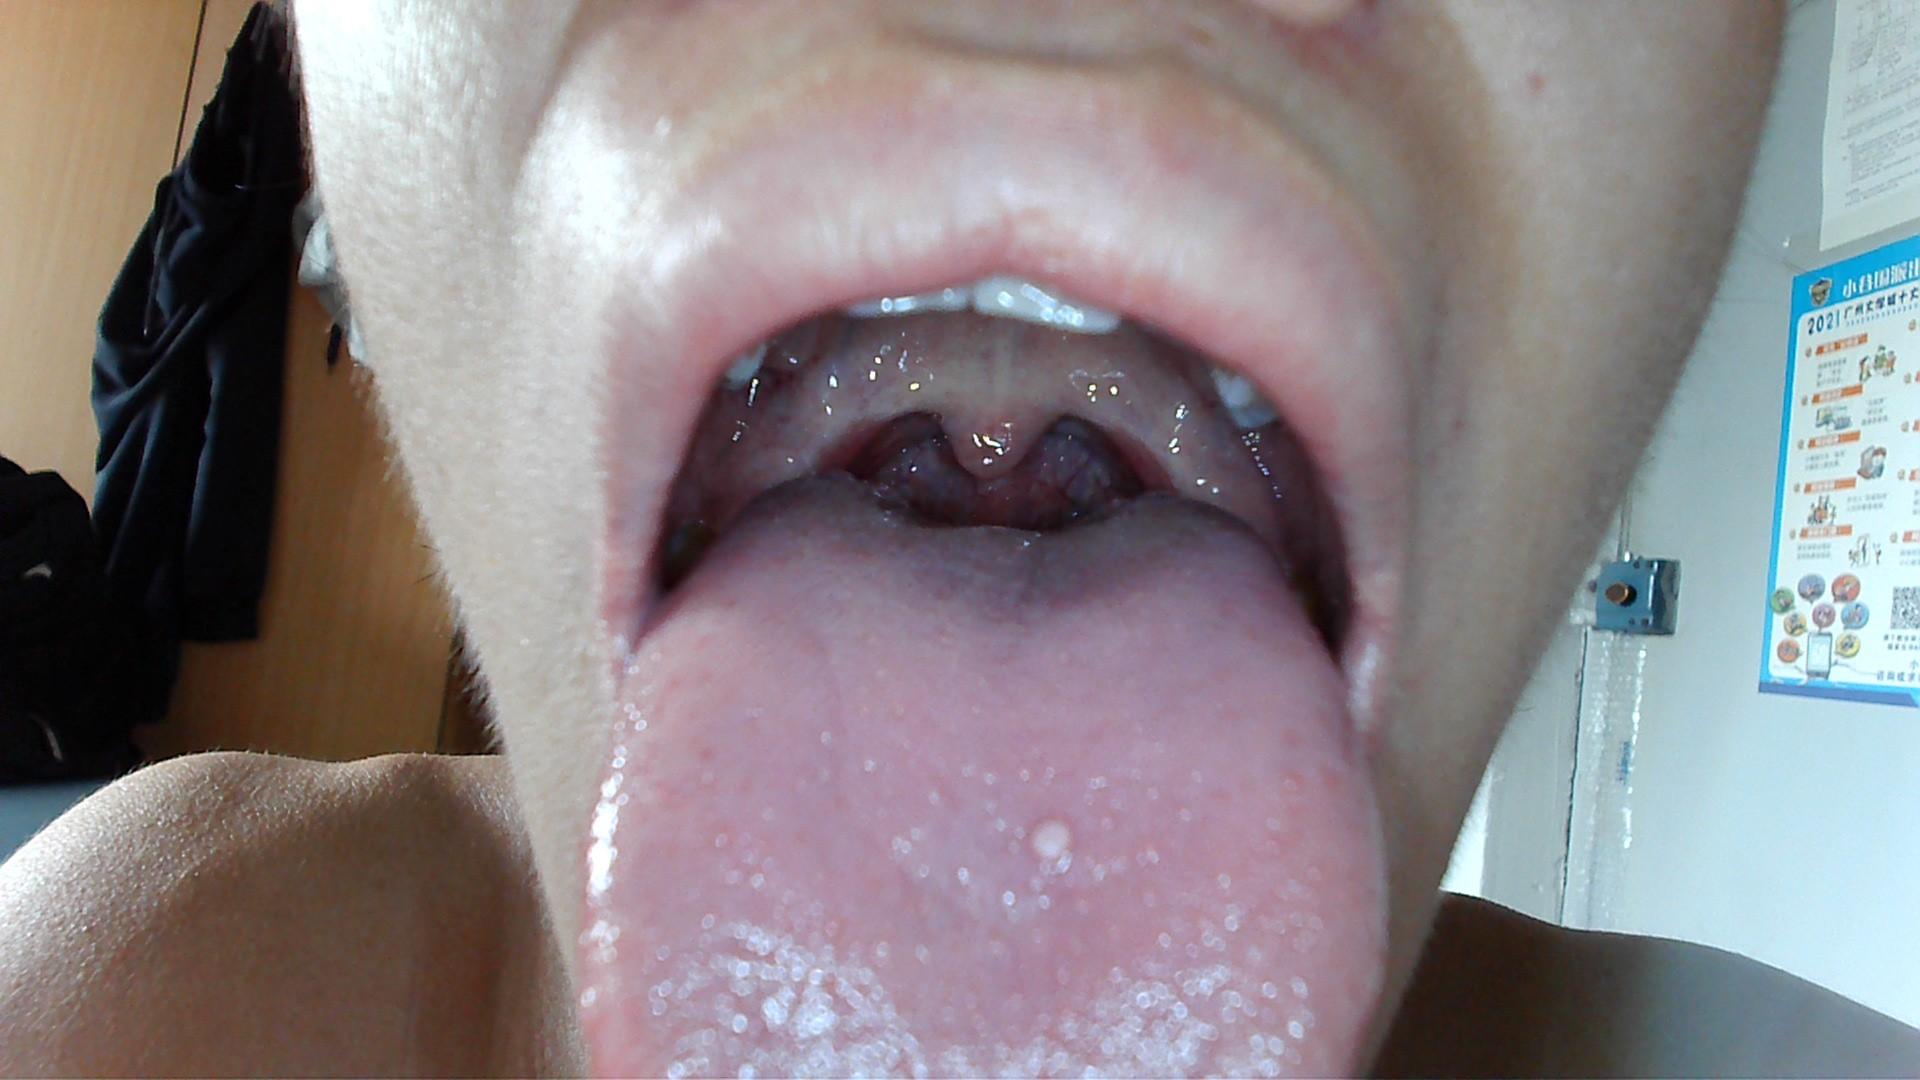throat: (1114, 372, 1197, 496), (766, 396, 878, 472)
